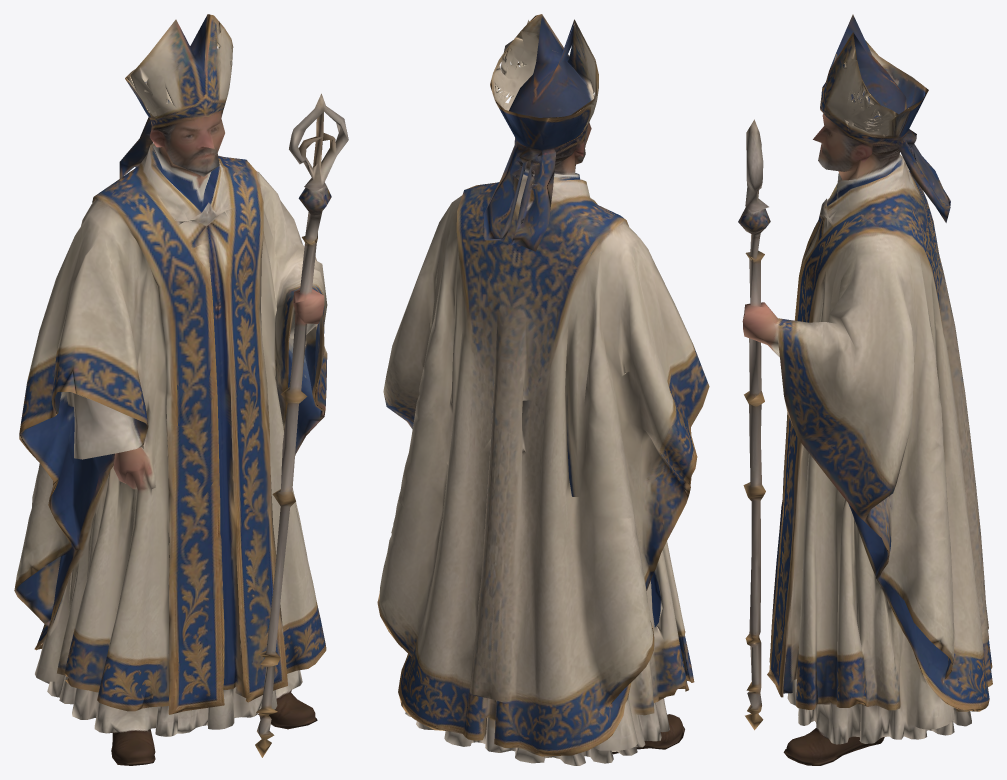
Rendered from royal-bishop.glb.
The picture shows the model from 3 angles, left to right: view 1: azimuth 30°, elevation 25°; view 2: azimuth 150°, elevation 25°; view 3: azimuth 270°, elevation 25°; orthographic projection. The views are drawn at different scales.
Parts seen in each view (by area): view 1: tripo_node_21b81865-7226-4dd1-a2ab-75eedfd11cf6; view 2: tripo_node_21b81865-7226-4dd1-a2ab-75eedfd11cf6; view 3: tripo_node_21b81865-7226-4dd1-a2ab-75eedfd11cf6.
Boxes of the visible parts, left/top/right/bottom form: tripo_node_21b81865-7226-4dd1-a2ab-75eedfd11cf6: left=14, top=14, right=348, bottom=765; tripo_node_21b81865-7226-4dd1-a2ab-75eedfd11cf6: left=377, top=14, right=709, bottom=765; tripo_node_21b81865-7226-4dd1-a2ab-75eedfd11cf6: left=738, top=14, right=992, bottom=765.
Bounding box in the file's own units: 0.4522 × 1 × 0.3306.
Materials: 1 (1 with a texture image).
